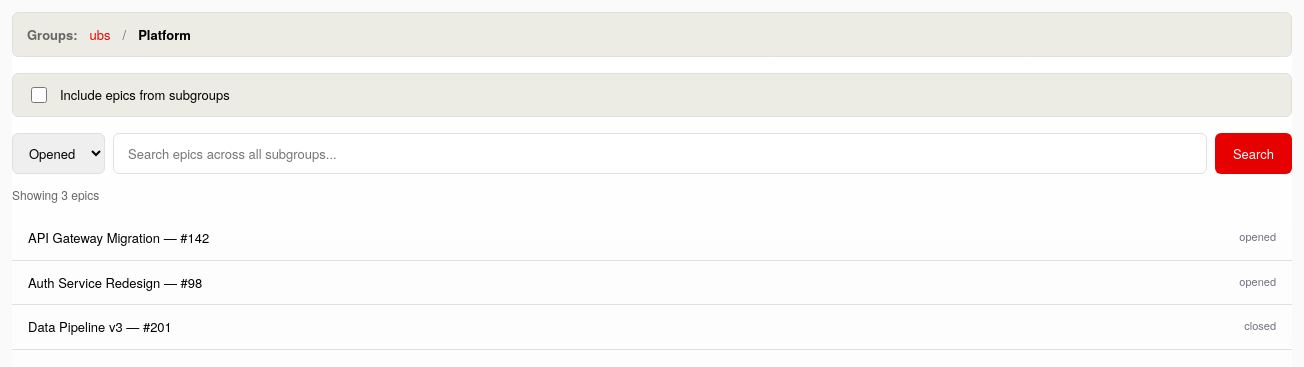
Test case: LoadEpicModal › server-side search via Search button
Check: the number of elements with test id "epic-card" is 3, box [12,216,1292,260]; [12,260,1292,305]; [12,305,1292,350]
// Type search term
Type "Auth" into the field with test id "epic-search-input" at coordinates (660, 154), box [113,133,1207,174]
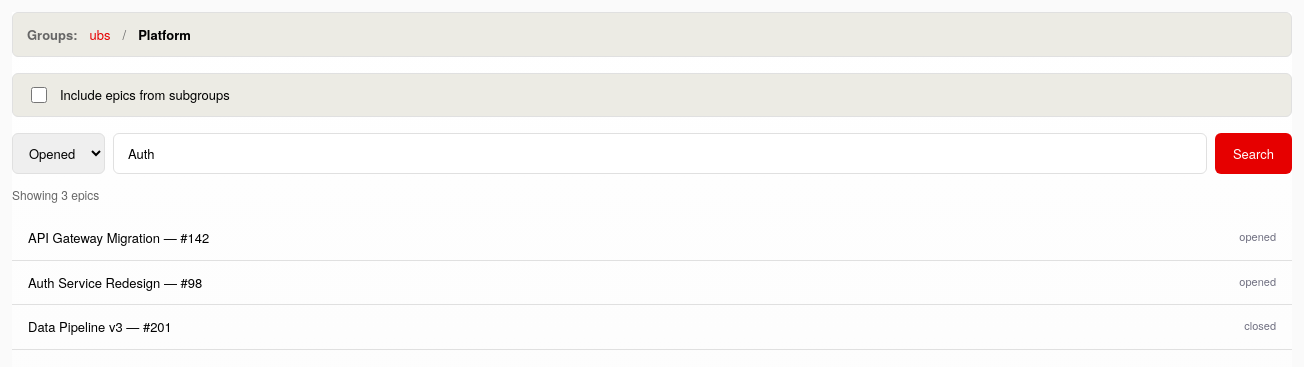
// Click Search button
Click the button with test id "epic-search-btn" at coordinates (1253, 154), box [1215,133,1292,174]
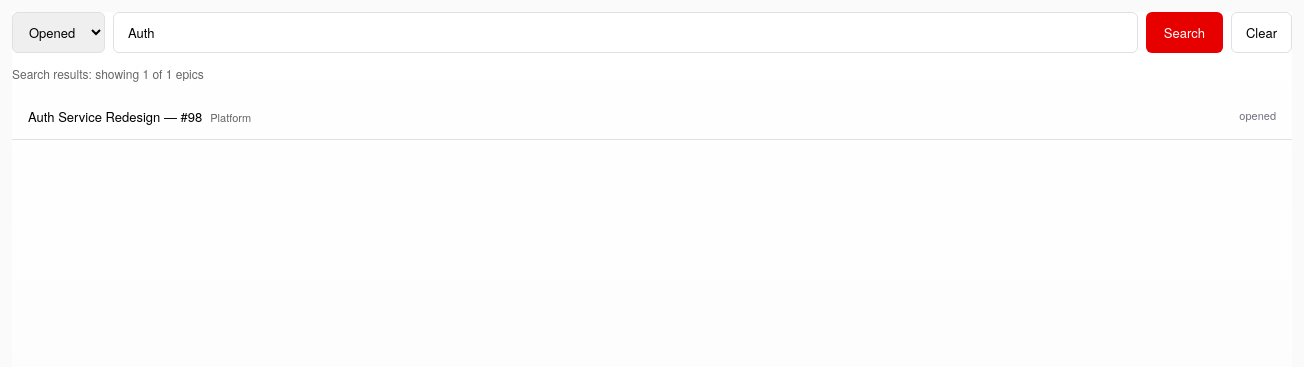
Check: the number of elements with test id "epic-card" is 1, box [12,95,1292,140]
Check: the text "Auth Service Redesign — #98Platform" is shown, box [28,107,251,126]
